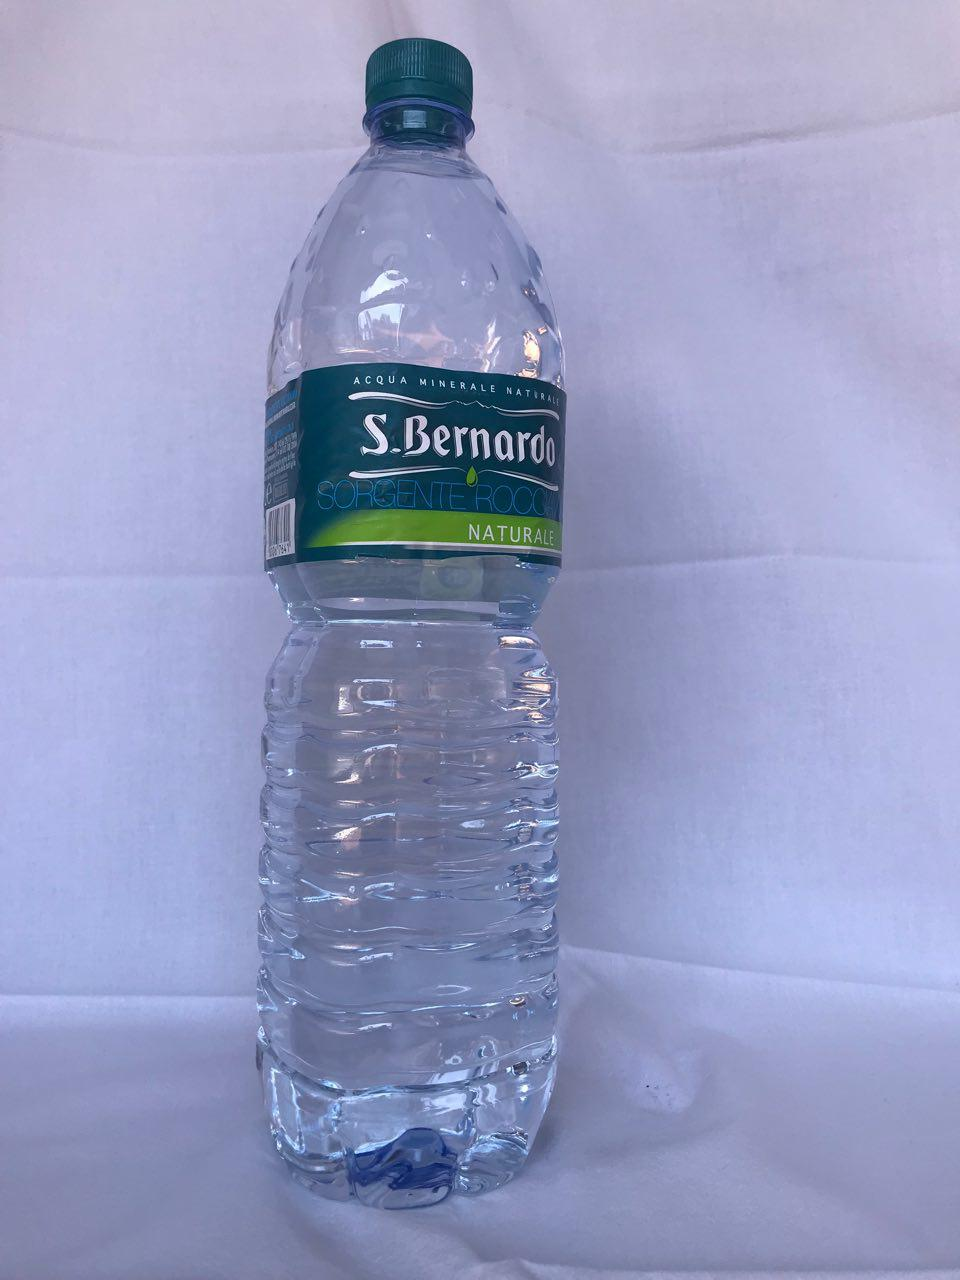san_bernardo: (253, 35, 569, 1211)
